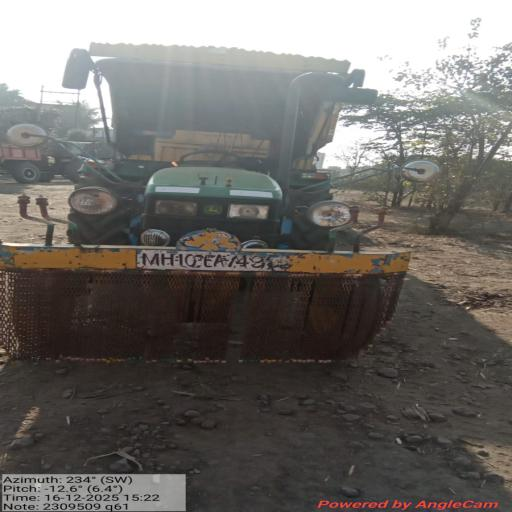number_plate: (129, 246, 310, 280)
